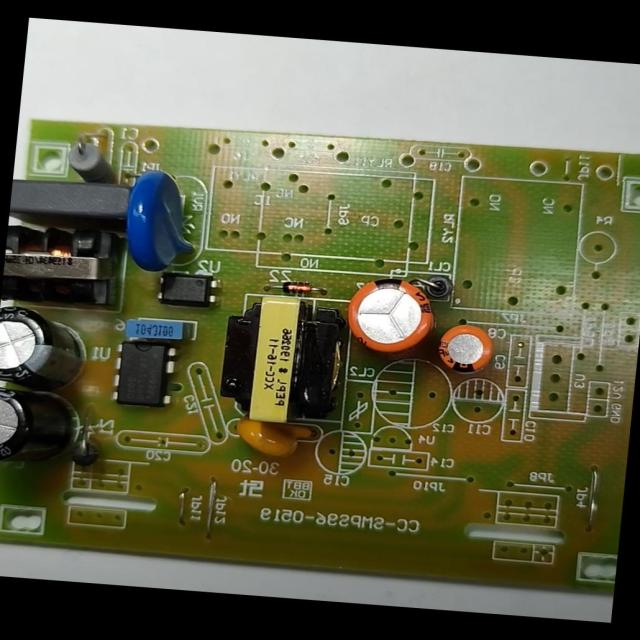Cap1: (341, 271, 443, 359)
Cap2: (432, 322, 499, 377)
Cap3: (0, 301, 93, 395)
Cap4: (0, 384, 85, 472)
MOSFET: (112, 338, 176, 408)
Mov: (117, 164, 209, 276)
Resistor: (61, 140, 120, 188)
Transformer: (212, 288, 350, 429), (1, 220, 120, 308)
